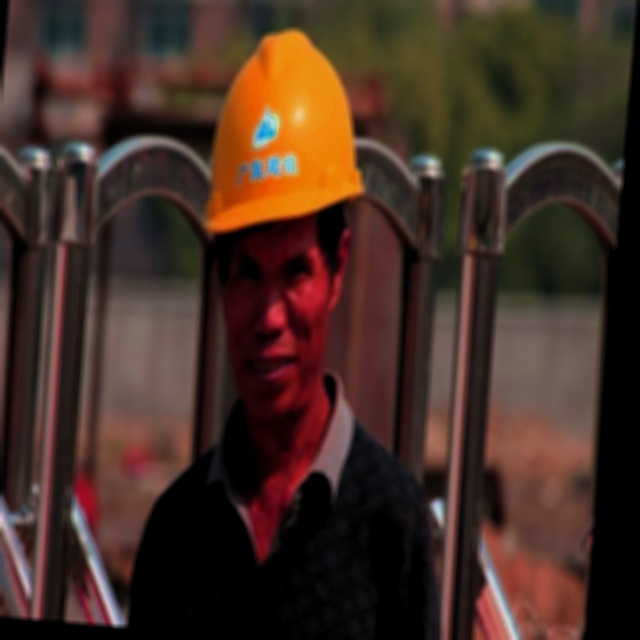Con_Casco: (186, 22, 374, 417)
